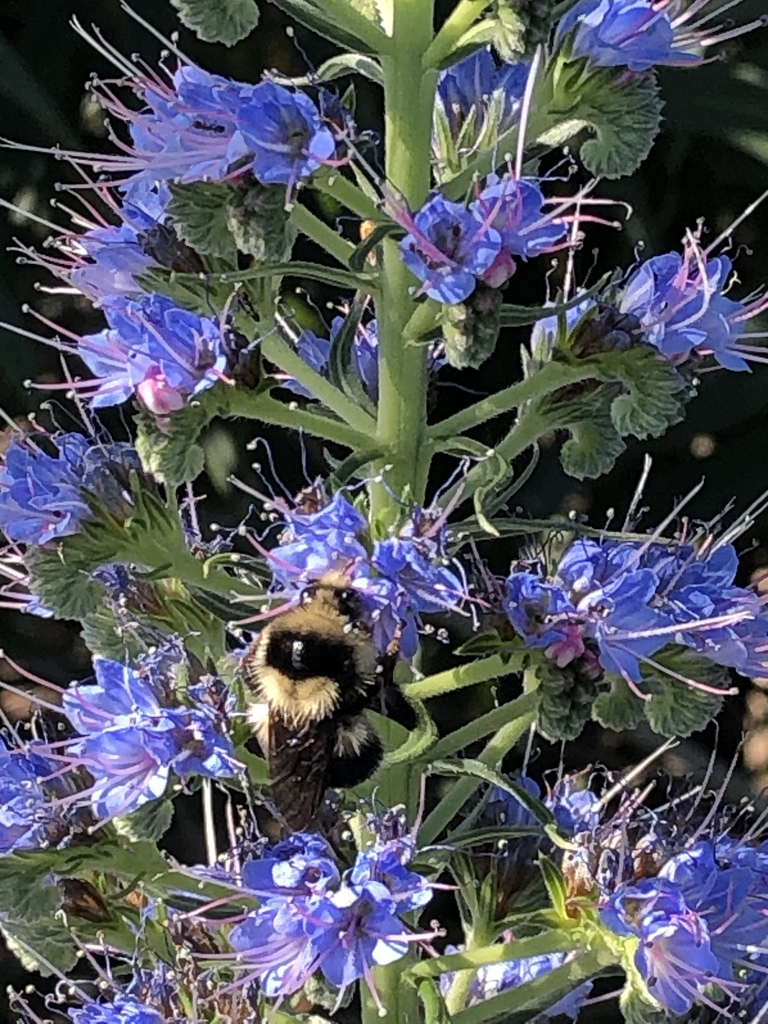bumblebee: (235, 577, 393, 830)
